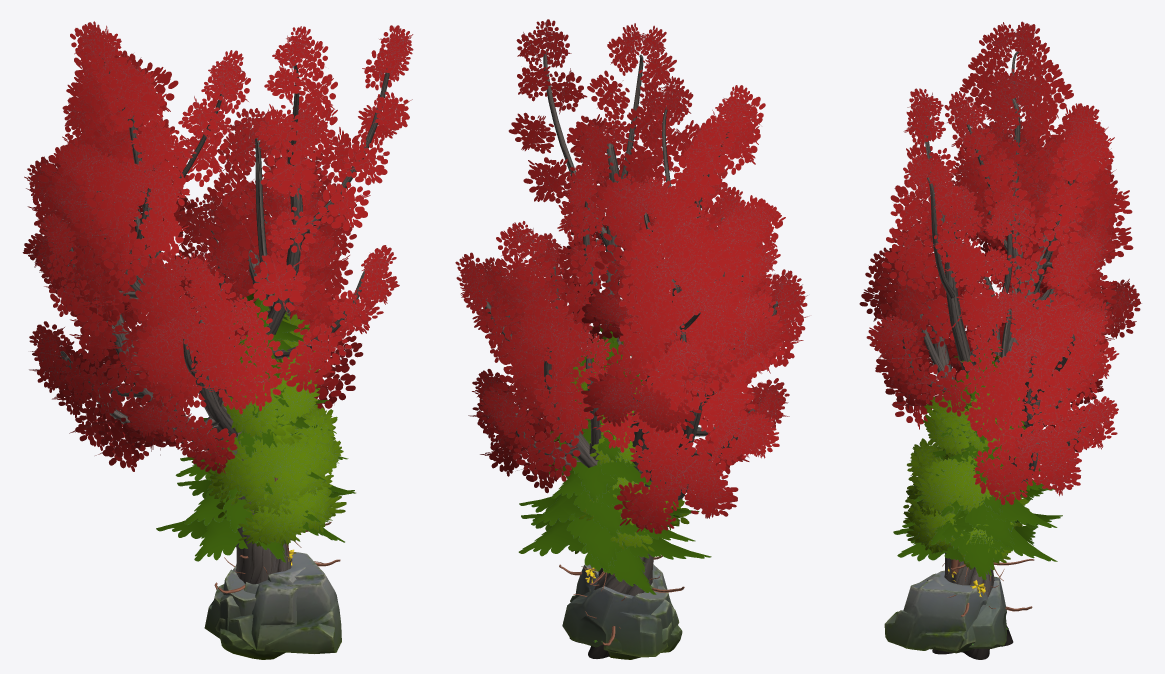
The model's file is nature.glb.
3 views of the same model, side by side, from view 1: azimuth 30°, elevation 25°; view 2: azimuth 150°, elevation 25°; view 3: azimuth 270°, elevation 25° (orthographic). The views are drawn at different scales.
Parts seen in each view (by area): view 1: TwistedTree_2, CommonTree_3, Pine_4, CommonTree_1, Rock_Medium_3, Rock_Medium_1, Rock_Medium_2; view 2: TwistedTree_2, Pine_4, Rock_Medium_2, Rock_Medium_3, CommonTree_1, Rock_Medium_1, CommonTree_3; view 3: TwistedTree_2, Pine_4, CommonTree_3, Rock_Medium_3, CommonTree_1, Rock_Medium_2, Rock_Medium_1.
Part boxes in pixels (box(x1,y1,x2,y2)): TwistedTree_2: box(22, 21, 413, 584); CommonTree_3: box(214, 312, 343, 557); Pine_4: box(156, 289, 355, 593); CommonTree_1: box(207, 405, 346, 546); Rock_Medium_3: box(220, 552, 341, 659); Rock_Medium_1: box(215, 566, 305, 650); Rock_Medium_2: box(204, 565, 256, 638); TwistedTree_2: box(455, 19, 808, 658); Pine_4: box(518, 324, 711, 645); Rock_Medium_2: box(562, 586, 668, 657); Rock_Medium_3: box(570, 564, 682, 652); CommonTree_1: box(558, 438, 689, 553); Rock_Medium_1: box(576, 564, 679, 659); CommonTree_3: box(569, 358, 671, 531); TwistedTree_2: box(859, 21, 1141, 659); Pine_4: box(893, 341, 1062, 616); CommonTree_3: box(905, 386, 1019, 574); Rock_Medium_3: box(884, 579, 987, 650); CommonTree_1: box(903, 437, 1029, 569); Rock_Medium_2: box(969, 576, 1006, 648); Rock_Medium_1: box(920, 570, 1006, 653).
Bounding box in the file's own units: 10.56 × 19.06 × 9.2.
9 materials, 9 textured.
